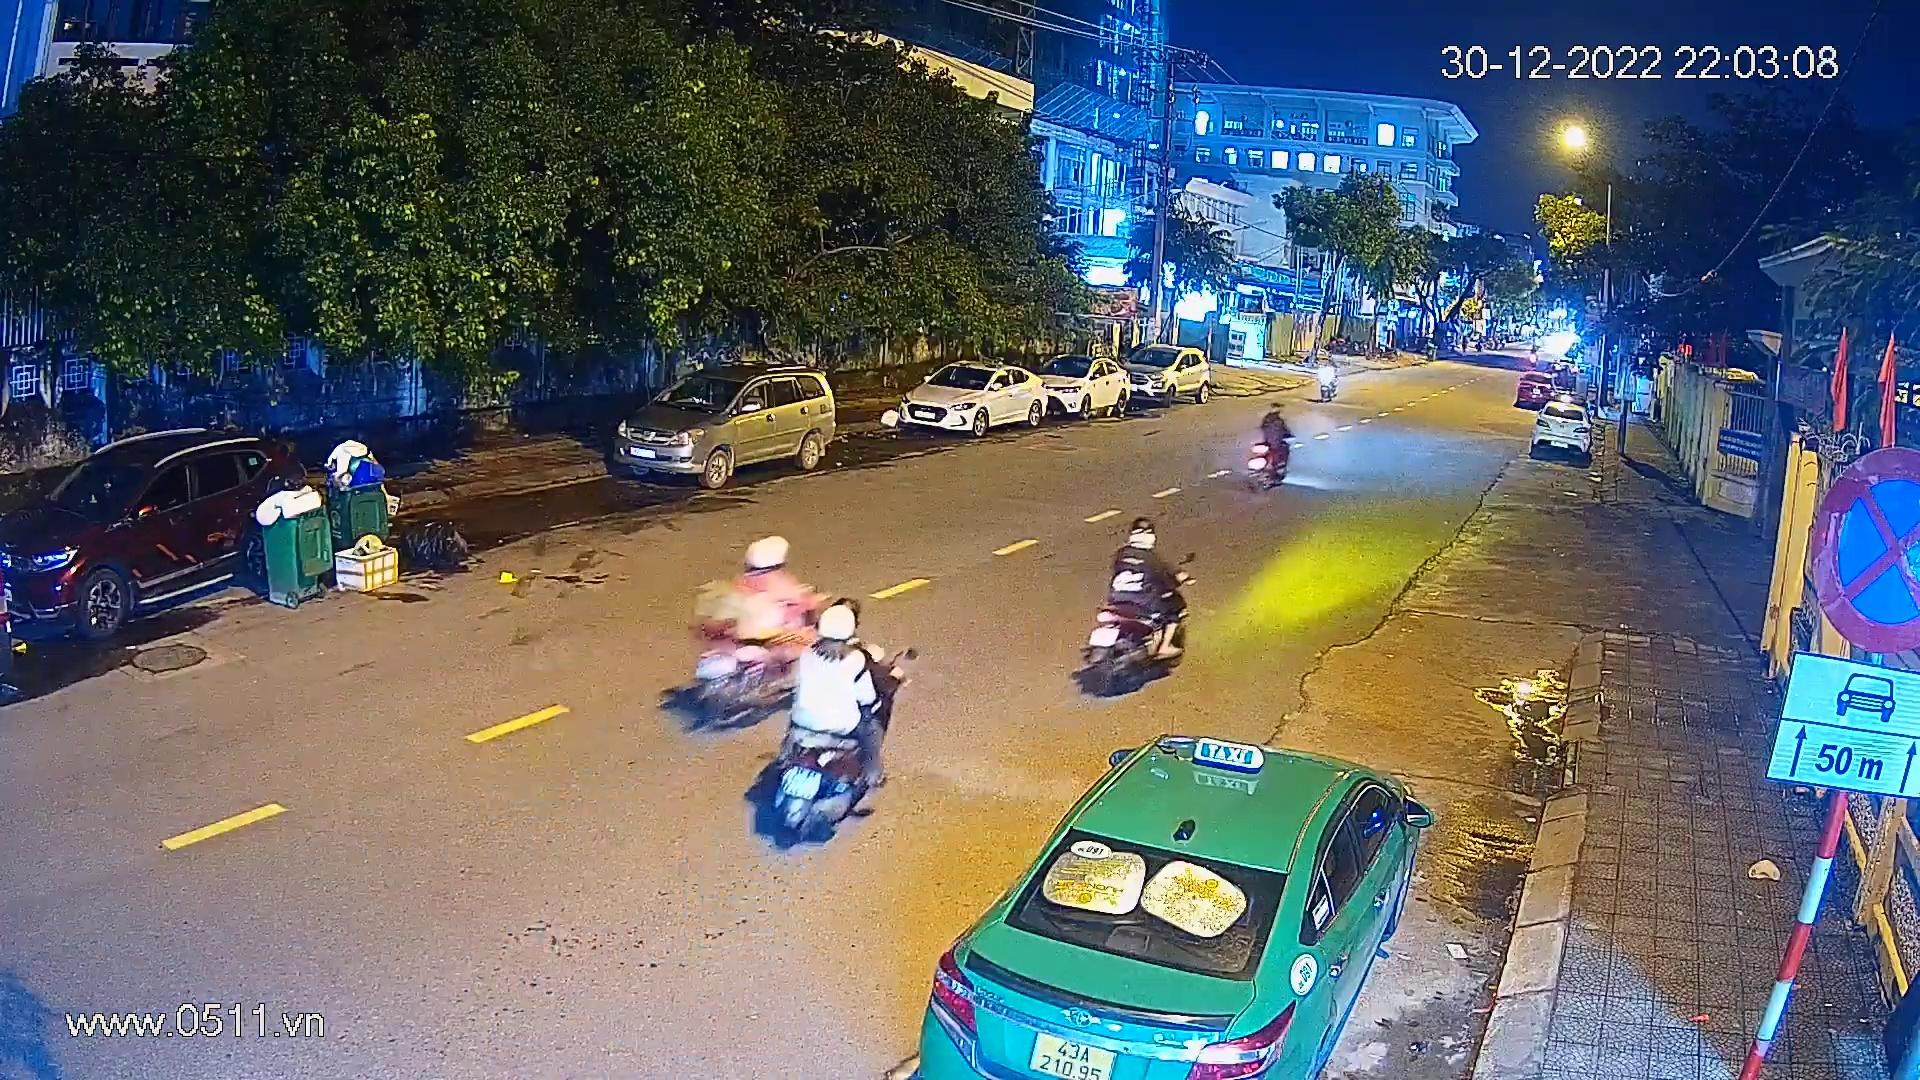car: (915, 715, 1443, 1080), (0, 400, 334, 654), (601, 340, 856, 495), (884, 347, 1054, 442), (1039, 349, 1141, 425), (1117, 332, 1218, 405), (1523, 389, 1607, 467), (1513, 367, 1556, 411)
motorcycle: (737, 592, 928, 857), (687, 529, 843, 731), (1079, 509, 1207, 696), (1241, 397, 1302, 491), (1312, 353, 1344, 406)
